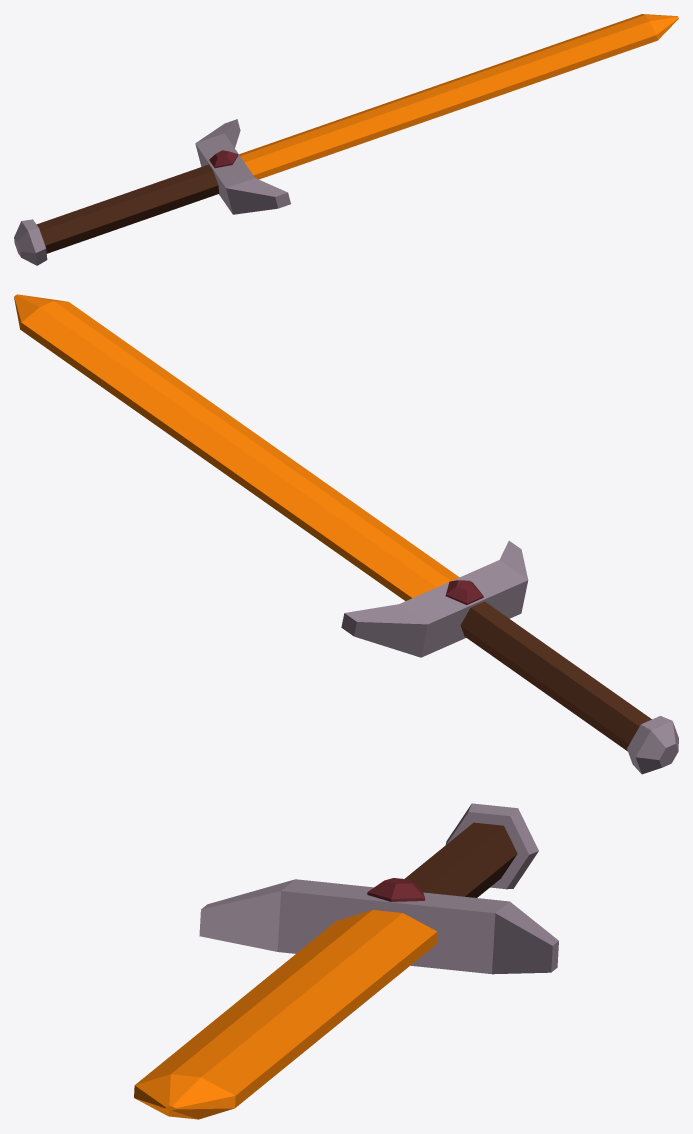
Rendered from LowPolySword2.fbx.
The picture shows the model from 3 angles, top to bottom: view 1: azimuth 30°, elevation 25°; view 2: azimuth 150°, elevation 25°; view 3: azimuth 270°, elevation 25°; orthographic projection. The views are drawn at different scales.
Parts seen in each view (by area): view 1: Blade; view 2: Blade; view 3: Blade.
Boxes of the visible parts, x1,y1,x2,y2 form: Blade: [14, 14, 678, 265]; Blade: [14, 294, 678, 774]; Blade: [134, 803, 558, 1119].
Size of the model in its own units: 43.07 by 11.85 by 13.62.
